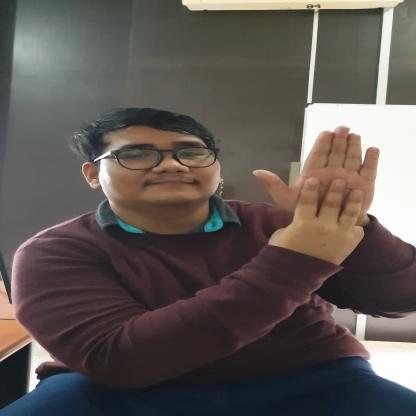M: (251, 125, 382, 242)
